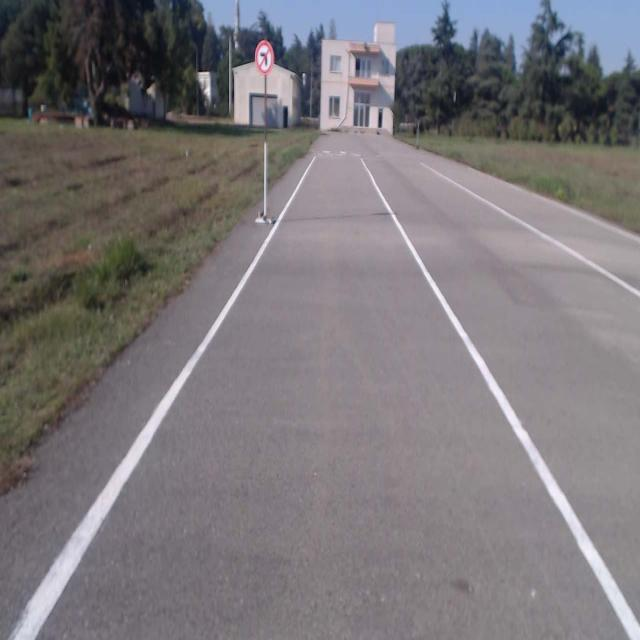soladonulmez: (256, 42, 274, 74)
